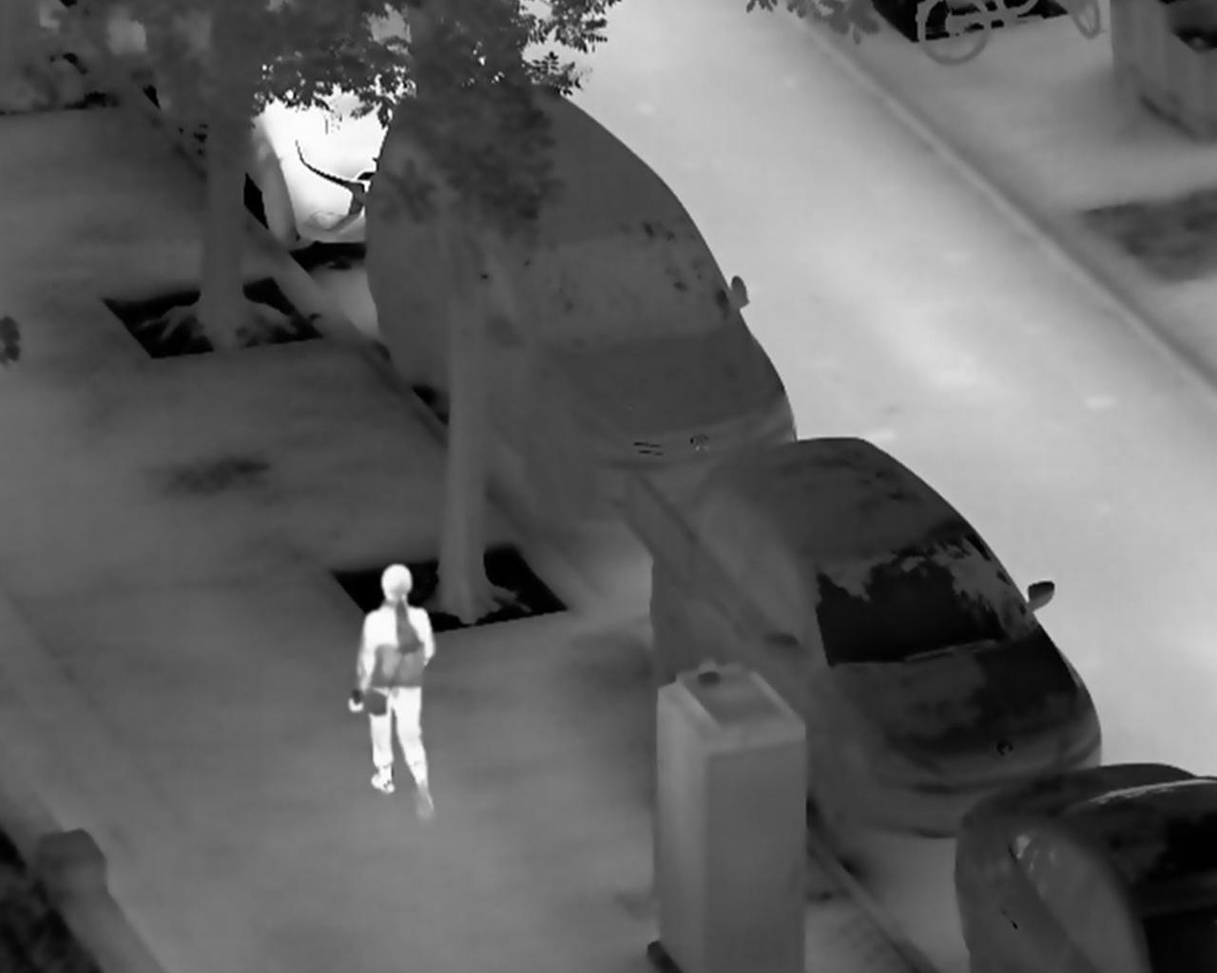person: (347, 561, 438, 825)
